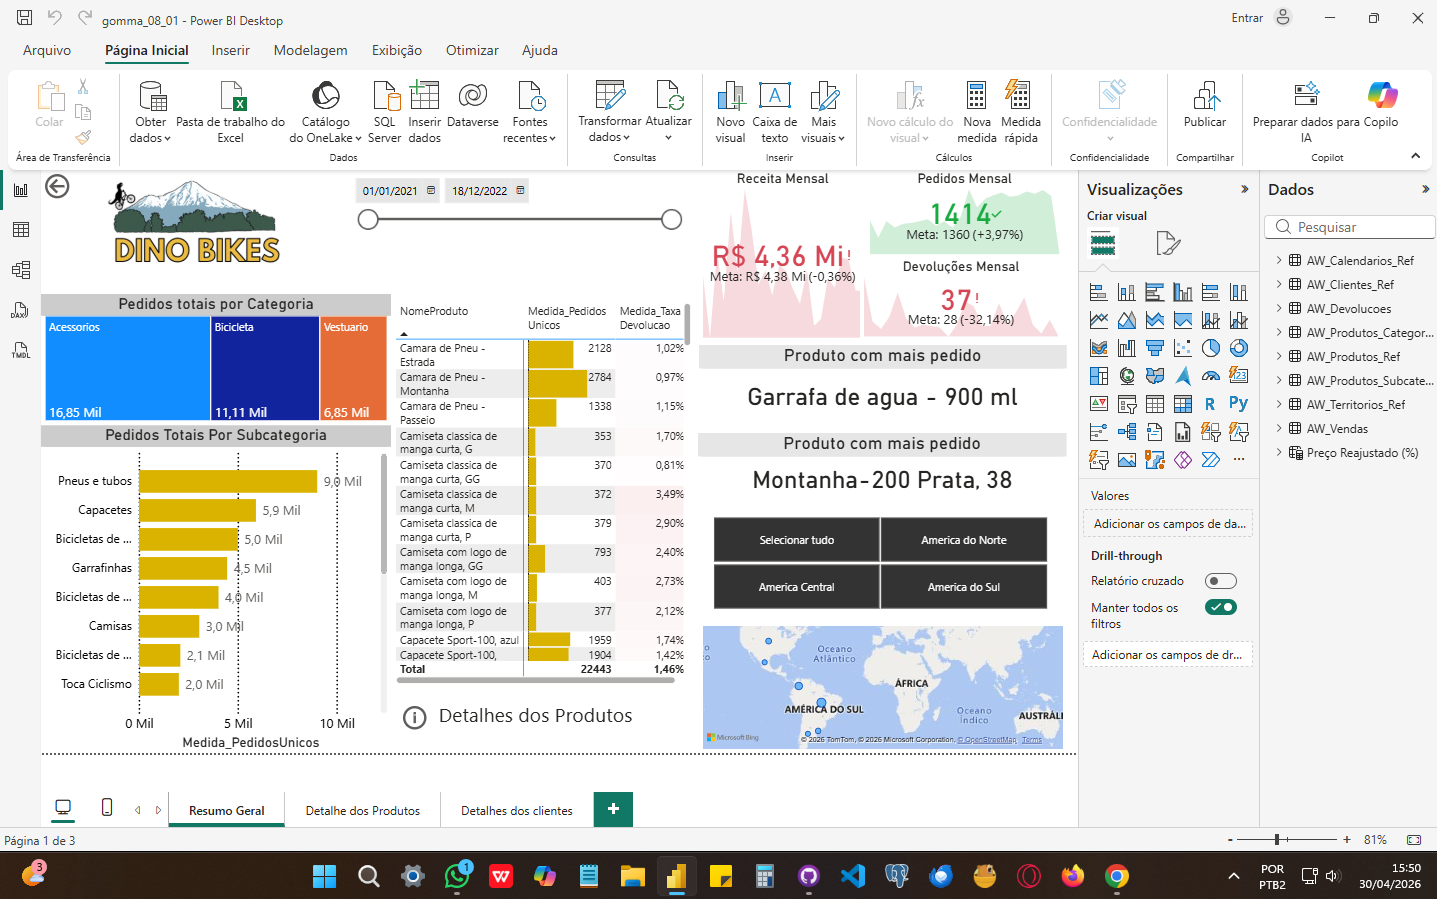

This screenshot's page, from the dashboard's own definition file:
{"tool":"powerbi","page":{"name":"Resumo Geral","canvas":[1280,720],"ordinal":0},"visuals":[{"type":"image","box":[0,0,375.6,134.7],"z":0},{"type":"barChart","title":"Pedidos Totais Por Subcategoria","fields":{"Y":["AW_Vendas.Medida_PedidosUnicos"],"Category":["AW_Produtos_Subcategorias_Ref.NomeSubCategoria"]},"box":[0,314.7,432.3,405.4],"z":1000},{"type":"treemap","title":" Pedidos totais por Categoria","fields":{"Group":["AW_Produtos_Categorias_Ref.NomeCategoria","AW_Produtos_Subcategorias_Ref.NomeSubCategoria"],"Values":["AW_Vendas.Medida_PedidosUnicos"]},"box":[0,153.1,432.3,161.6],"z":2000},{"type":"pivotTable","fields":{"Rows":["AW_Produtos_Categorias_Ref.NomeCategoria","AW_Produtos_Subcategorias_Ref.NomeSubCategoria","AW_Produtos_Ref.NomeProduto"],"Values":["AW_Vendas.Medida_PedidosUnicos","AW_Devolucoes.Medida_TaxaDevolucao"]},"box":[433,159.5,374.5,479.8],"z":3000},{"type":"slicer","fields":{"Values":["AW_Calendarios_Ref.Datas"]},"box":[375.6,0,430.9,109.1],"z":4000},{"type":"kpi","title":"Receita Mensal","fields":{"Indicator":["AW_Vendas.Medida_ReceitaTotal"],"TrendLine":["AW_Calendarios_Ref.Início do Mês"],"Goal":["AW_Vendas.Medida_ReceitaUltimoMes"]},"box":[811.6,0,206.8,212.4],"z":5000},{"type":"kpi","title":"Pedidos Mensal","fields":{"TrendLine":["AW_Calendarios_Ref.Início do Mês"],"Indicator":["AW_Vendas.Medida_PedidosUnicos"],"Goal":["AW_Vendas.Medida_PedidosUltimoMes"]},"box":[1017.8,0,243.8,109.1],"z":6000},{"type":"kpi","title":"Devoluções Mensal","fields":{"TrendLine":["AW_Calendarios_Ref.Início do Mês"],"Indicator":["AW_Devolucoes.Medida_DevolucoesUnicas"],"Goal":["AW_Devolucoes.Medida_DevolucoesUltimoMes"]},"box":[1010.7,109.1,249.5,102.1],"z":7000},{"type":"card","title":"Produto com mais pedido","fields":{"Values":["Min(AW_Produtos_Ref.NomeProduto)"]},"box":[812.2,215.5,453.6,99.2],"z":8000},{"type":"actionButton","box":[0,0,100,40],"z":9000},{"type":"card","title":"Produto com mais pedido","fields":{"Values":["Min(AW_Produtos_Ref.NomeProduto)"]},"box":[810.8,324.6,455,86.5],"z":10000},{"type":"map","fields":{"Category":["AW_Territorios_Ref.Pais"],"Size":["AW_Vendas.Medida_PedidosUnicos"]},"box":[812.2,558.5,453.6,161.6],"z":11000},{"type":"slicer","fields":{"Values":["AW_Territorios_Ref.Continente"]},"box":[805.1,422.4,460.7,126.2],"z":12000},{"type":"textbox","box":[441.3,650.7,337.2,52.7],"z":13000},{"type":"actionButton","box":[441.3,656.9,100.3,38.9],"z":14000}]}

Visuals, with their boxes on the page's 1280x720 design canvas (x1, y1, x2, y2). These are canvas units, not pixel positions in the 1437x899 screenshot, which may show the page scaled, cropped or inside an application window:
image: <region>0, 0, 376, 135</region>
"Pedidos Totais Por Subcategoria" barChart: <region>0, 315, 432, 720</region>
" Pedidos totais por Categoria" treemap: <region>0, 153, 432, 315</region>
pivotTable - AW_Produtos_Categorias_Ref.NomeCategoria x AW_Produtos_Subcategorias_Ref.NomeSubCategoria: <region>433, 160, 808, 639</region>
slicer - AW_Calendarios_Ref.Datas: <region>376, 0, 806, 109</region>
"Receita Mensal" kpi: <region>812, 0, 1018, 212</region>
"Pedidos Mensal" kpi: <region>1018, 0, 1262, 109</region>
"Devoluções Mensal" kpi: <region>1011, 109, 1260, 211</region>
"Produto com mais pedido" card: <region>812, 216, 1266, 315</region>
actionButton: <region>0, 0, 100, 40</region>
"Produto com mais pedido" card: <region>811, 325, 1266, 411</region>
map - AW_Territorios_Ref.Pais x AW_Vendas.Medida_PedidosUnicos: <region>812, 558, 1266, 720</region>
slicer - AW_Territorios_Ref.Continente: <region>805, 422, 1266, 549</region>
textbox: <region>441, 651, 778, 703</region>
actionButton: <region>441, 657, 542, 696</region>
